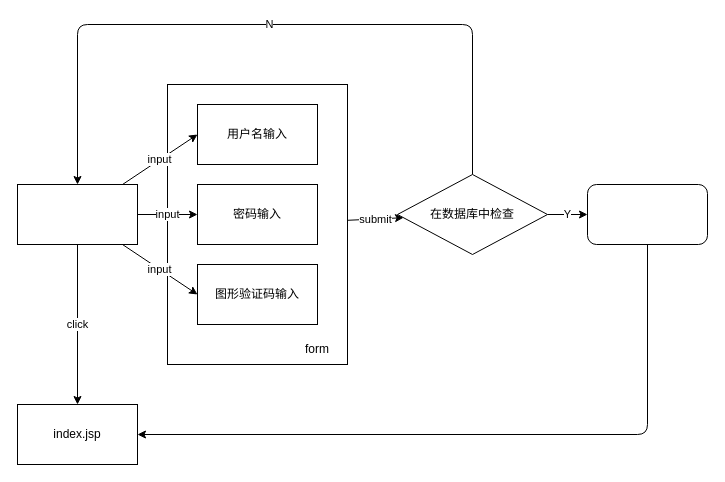
This 725x482 diagram has some shape labels left out. Each missing label, with the centre of its shape:
register.jsp: (77,214)
注册成功: (647,214)
